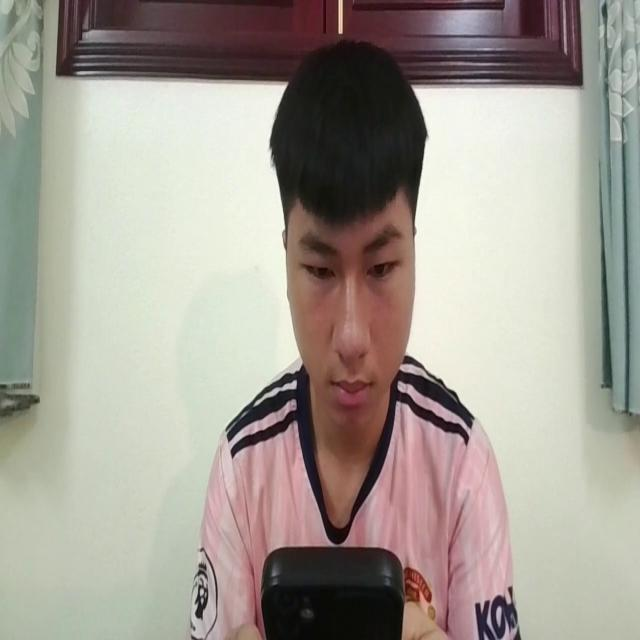phone: (263, 533, 401, 640)
student: (188, 37, 522, 640)
